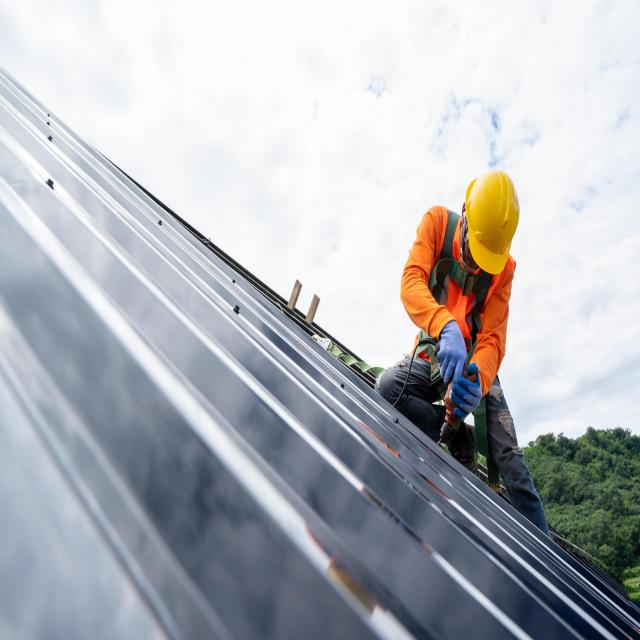gloves: (454, 361, 485, 428), (436, 321, 468, 383)
helmet: (465, 167, 521, 276)
vest: (425, 197, 509, 390)
